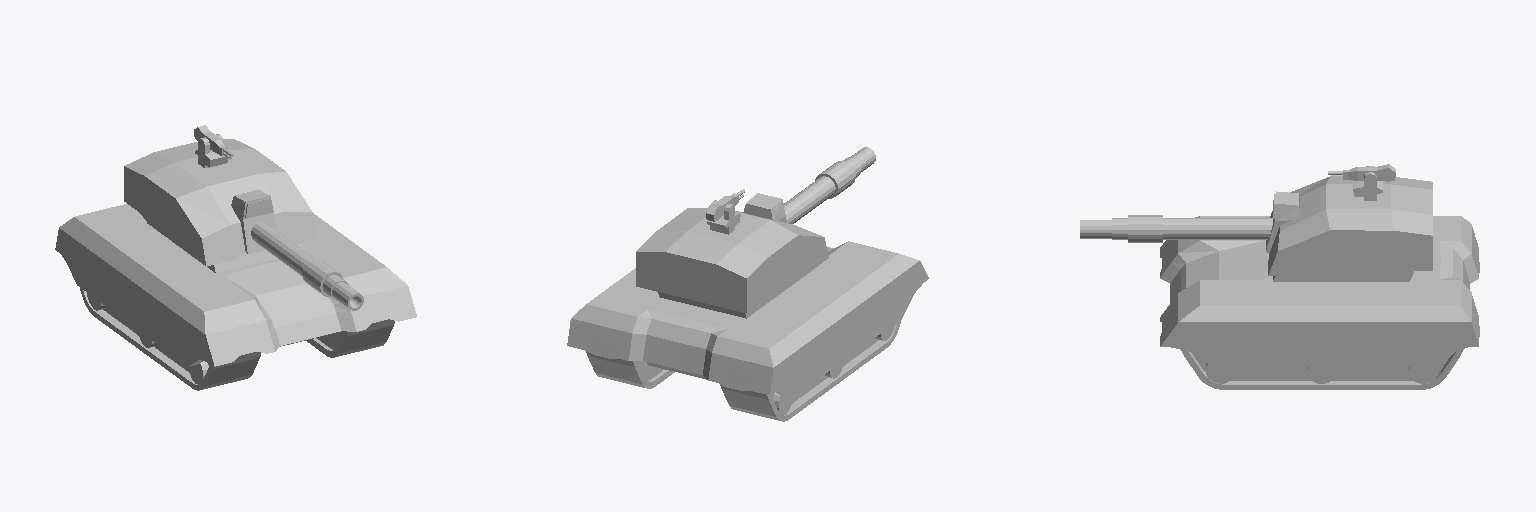
The model's file is tank.obj.
3 renders of one model, left to right at view 1: azimuth 30°, elevation 25°; view 2: azimuth 150°, elevation 25°; view 3: azimuth 270°, elevation 25°, orthographic.
Parts seen in each view (by area): view 1: Hull_Cube.002; view 2: Hull_Cube.002; view 3: Hull_Cube.002.
Boxes of the visible parts, <box> form: Hull_Cube.002: <box>55,125,416,390</box>; Hull_Cube.002: <box>567,147,928,421</box>; Hull_Cube.002: <box>1080,164,1479,389</box>.
Bounding box in the file's own units: 4.81 × 4.09 × 8.21.